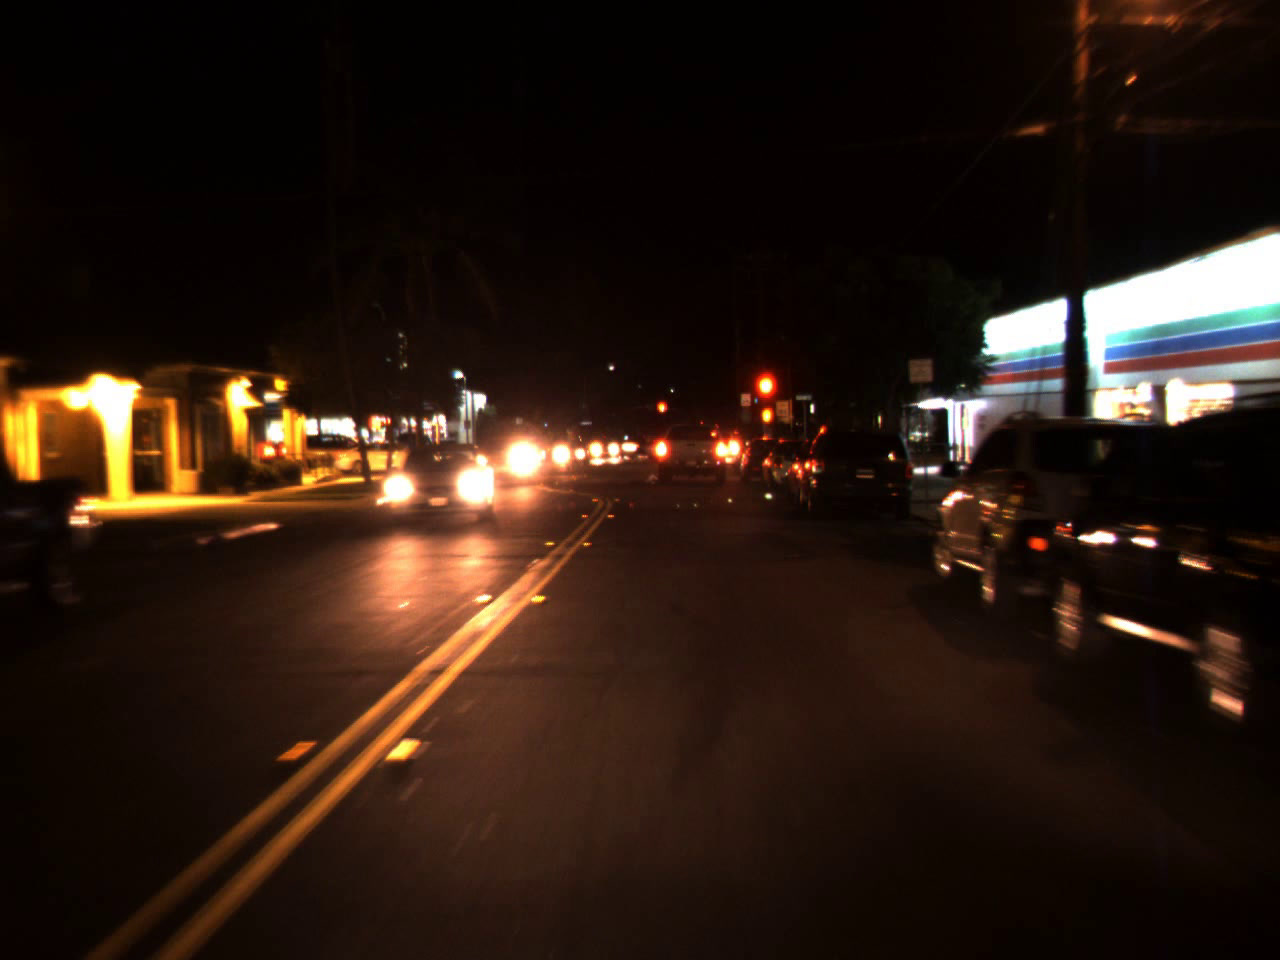stop: (751, 368, 781, 432), (655, 399, 668, 426)
